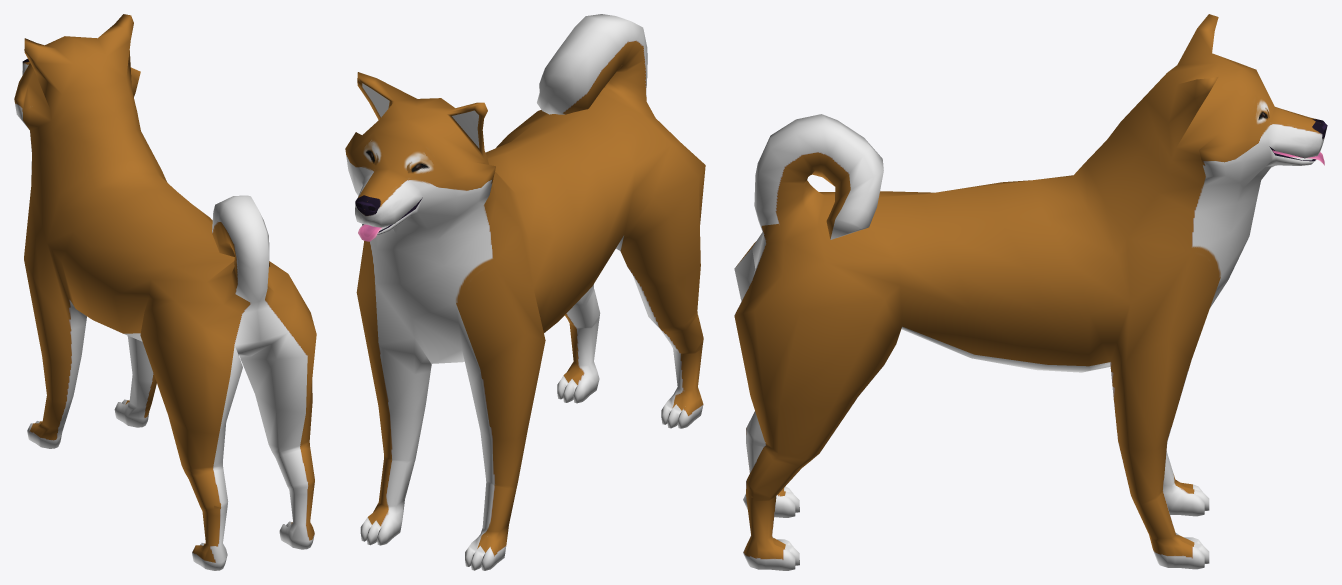
The model's file is doggy.glb.
The picture shows the model from 3 angles, left to right: view 1: azimuth 30°, elevation 25°; view 2: azimuth 150°, elevation 25°; view 3: azimuth 270°, elevation 25°; orthographic projection. The views are drawn at different scales.
Parts seen in each view (by area): view 1: Cylinder.001; view 2: Cylinder.001; view 3: Cylinder.001.
Part boxes in pixels (x1,y1,x2,y2): Cylinder.001: (14, 14, 316, 570); Cylinder.001: (345, 14, 705, 570); Cylinder.001: (734, 14, 1327, 570).
Size of the model in its own units: 0.1531 by 0.3957 by 0.4323.
Materials: 1 (1 with a texture image).
